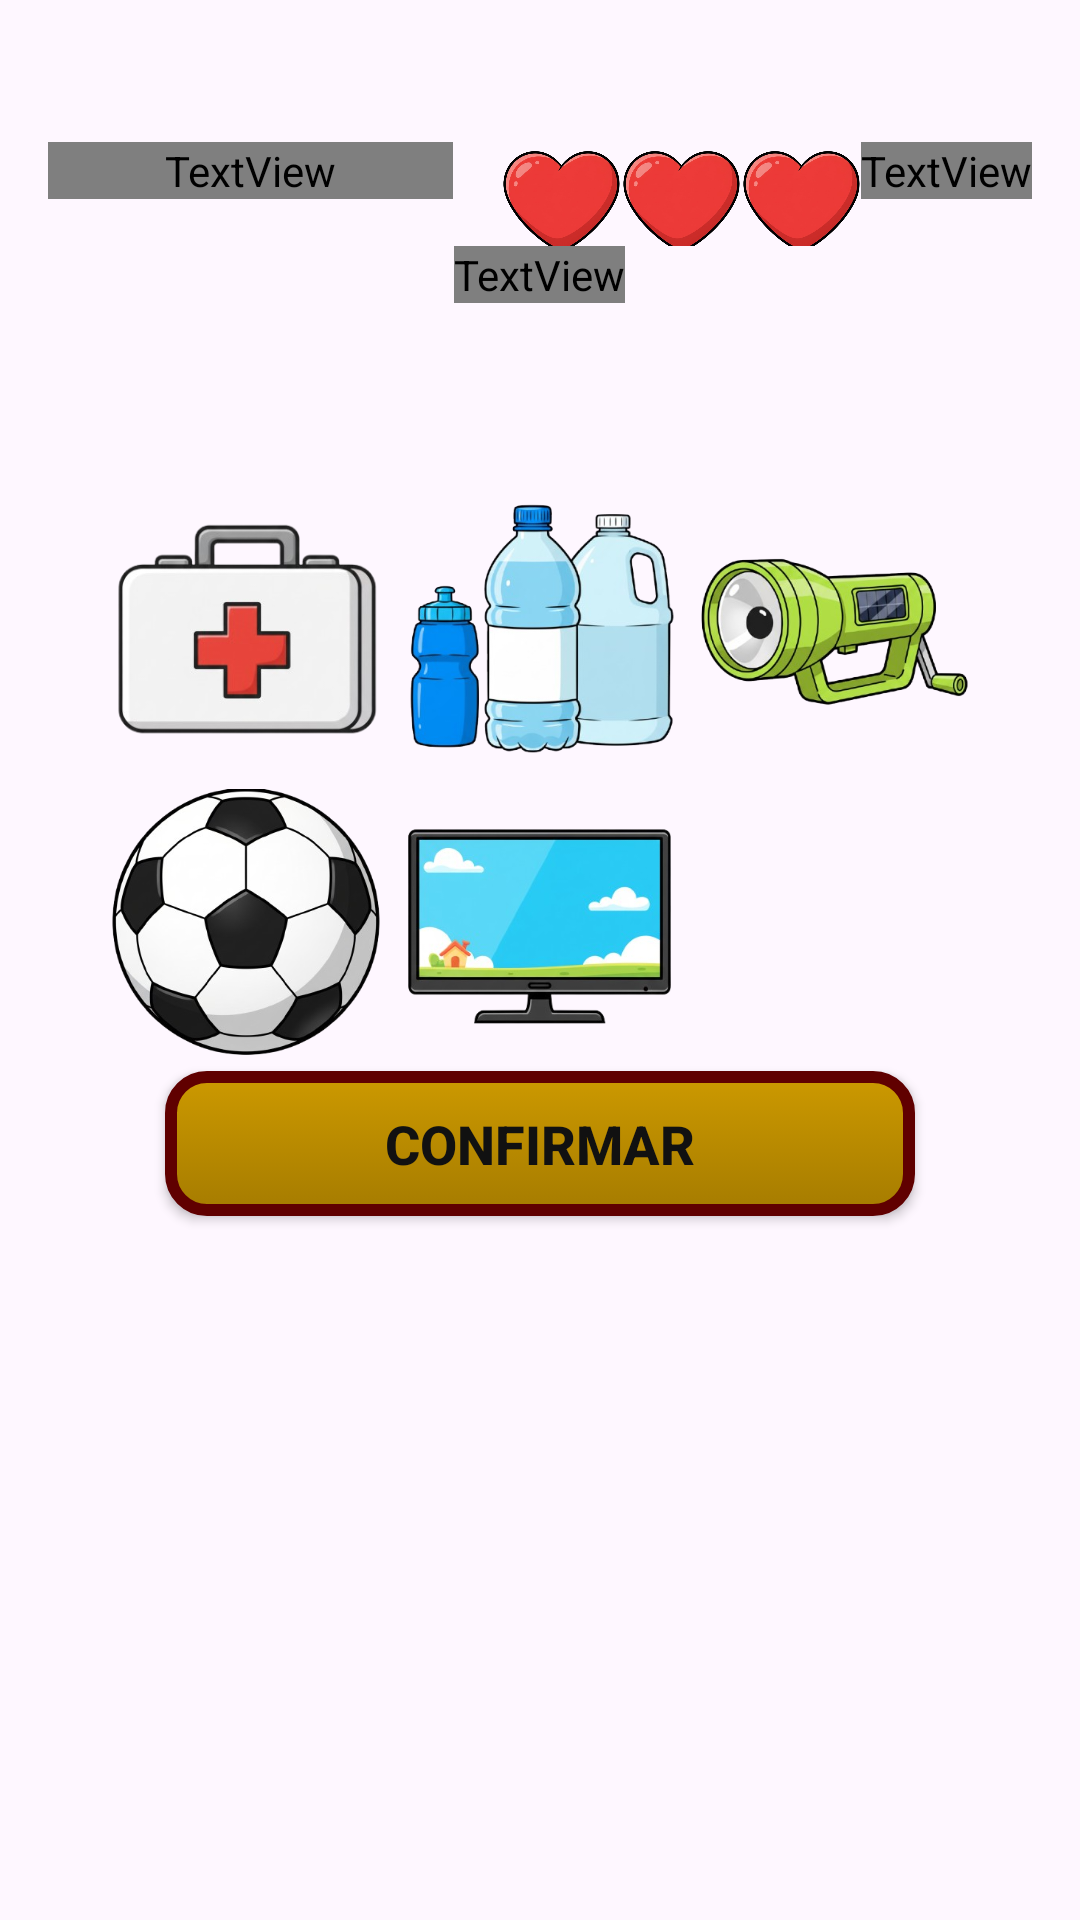

Named icons in this screenshot (1080 × 1920) and their bounding boxes, box=[x1, y1, x2, y2]:
agua: box=[410, 505, 674, 753]
balon: box=[112, 789, 380, 1055]
botiquin: box=[118, 524, 377, 734]
linterna: box=[701, 559, 968, 705]
televisor: box=[408, 829, 671, 1024]
